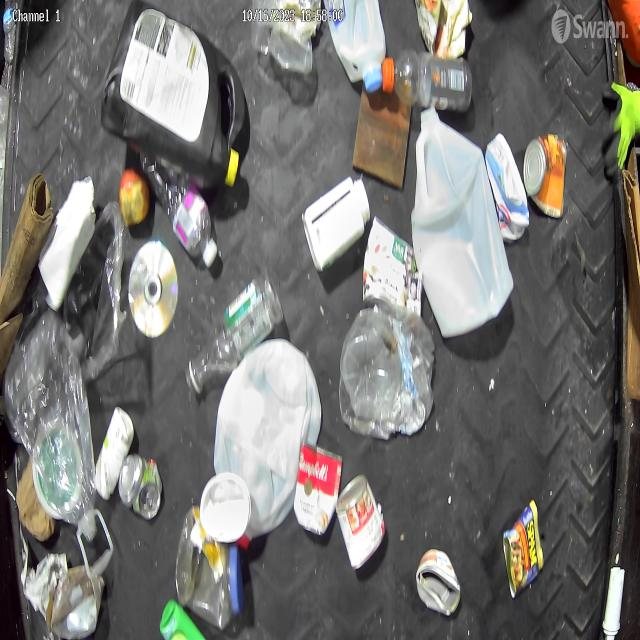can: (362, 215, 424, 318), (336, 472, 385, 570), (293, 441, 343, 536), (502, 498, 544, 598), (523, 133, 567, 218), (414, 548, 462, 614), (118, 454, 162, 520)
milk_jug: (411, 105, 514, 339), (212, 338, 322, 548), (324, 0, 386, 92)
non_white_jug: (101, 0, 247, 187)
plastic_bottle: (4, 308, 114, 577), (184, 268, 284, 400), (139, 143, 217, 267), (176, 509, 242, 628), (342, 308, 398, 418), (384, 48, 473, 111), (3, 0, 14, 61)
